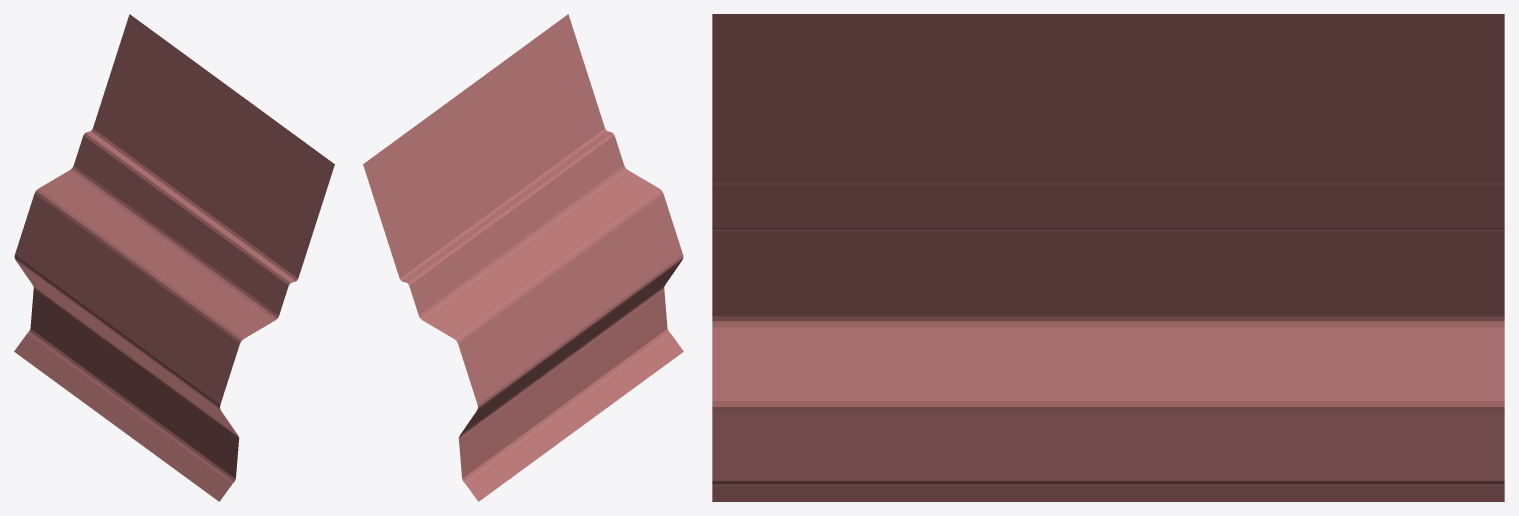
The model's file is DoorTEST.fbx.
3 renders of one model, left to right at view 1: azimuth 30°, elevation 25°; view 2: azimuth 150°, elevation 25°; view 3: azimuth 270°, elevation 25°, orthographic. The views are drawn at different scales.
Parts seen in each view (by area): view 1: Door2; view 2: Door2; view 3: Door2.
Part boxes in pixels (x1,y1,x2,y2): Door2: [14, 14, 334, 501]; Door2: [363, 14, 683, 501]; Door2: [712, 14, 1504, 501].
Size of the model in its own units: 0.3247 by 0.831 by 1.
